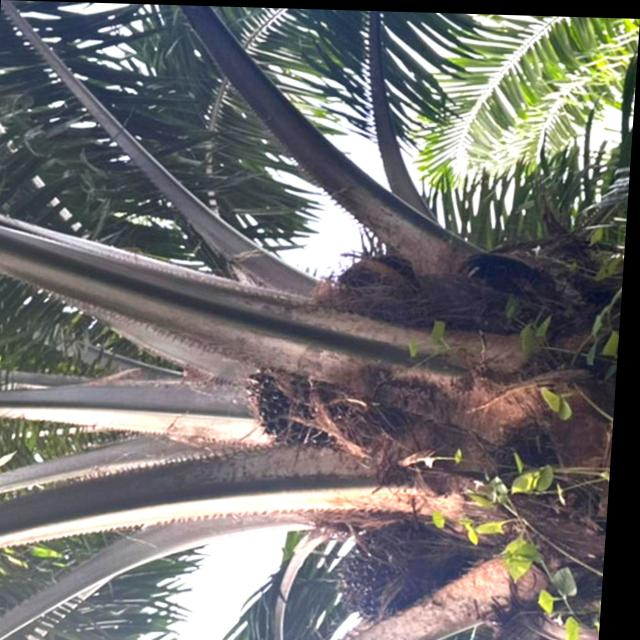almost: (248, 321, 398, 452)
